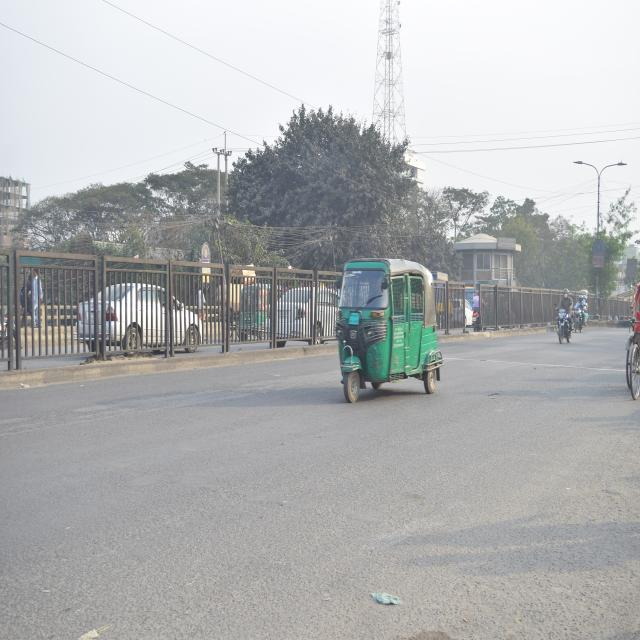motorbike: (547, 300, 574, 350), (571, 298, 587, 338)
